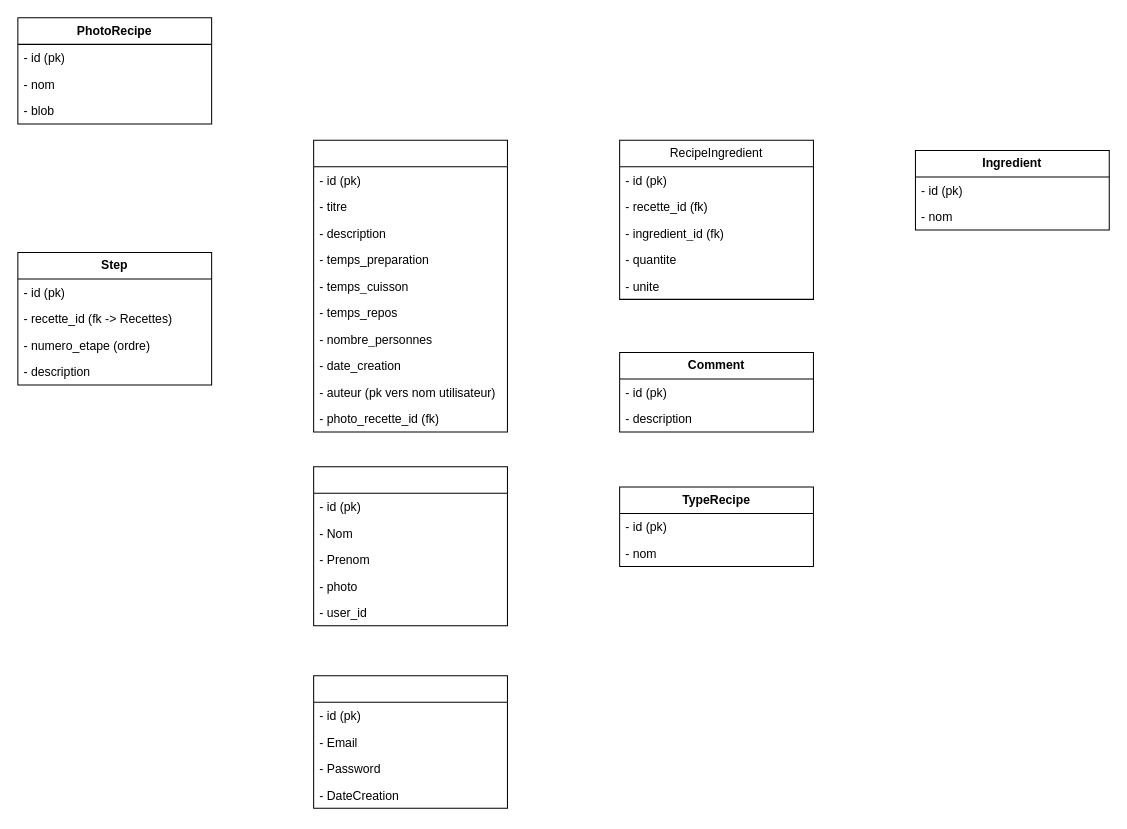
Some shapes in this 1127 by 829 pixel diagram are drawn without their labels. The shapes that lost their labels are listed below. From the top down, each one's box as (x1, y1, x2, y2) in pixels, then its label:
(313, 139, 507, 432): Recipe
(313, 466, 507, 626): UserProfile
(313, 675, 507, 808): user
